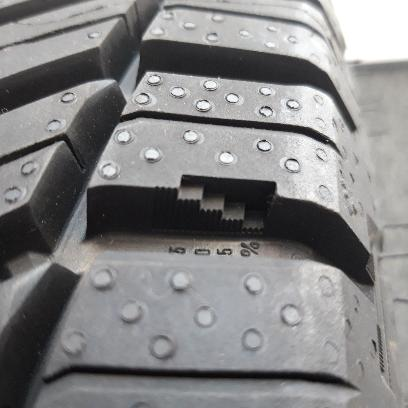temoin:100: (151, 173, 281, 238)
